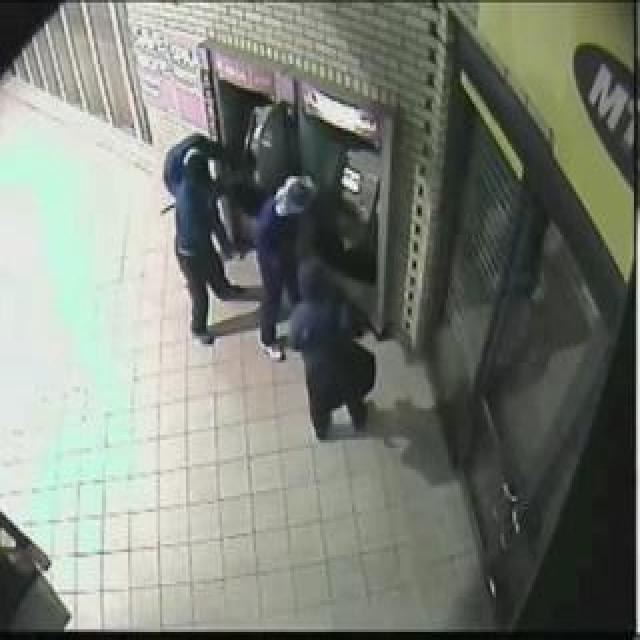thief: (153, 120, 350, 332)
